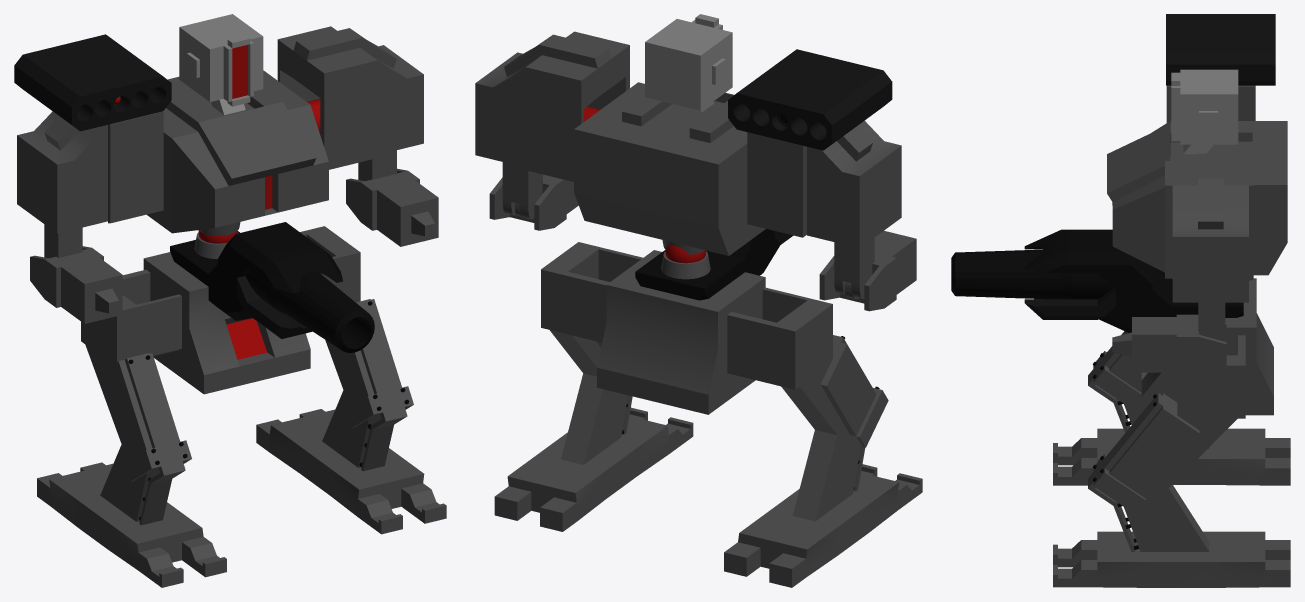
The model's file is RobotBossGun.fbx.
The picture shows the model from 3 angles, left to right: view 1: azimuth 30°, elevation 25°; view 2: azimuth 150°, elevation 25°; view 3: azimuth 270°, elevation 25°; orthographic projection. The views are drawn at different scales.
Parts seen in each view (by area): view 1: Box001, Box015, Box016, Box011, Box019, Box020, Line002, Box002, Box013, Cone010, Box018, Box017 (+1 smaller); view 2: Box001, Box015, Box019, Box011, Box016, Box020, Box002, Line002, Box018, Box013, Box017, Box012 (+1 smaller); view 3: Box001, Box015, Box011, Line002, Box020, Cone010, Box002, Box013, Box019, Box012, Box016.
Part boxes in pixels (bbox=[...]): Box001: bbox=[37, 226, 446, 587]; Box015: bbox=[147, 70, 328, 233]; Box016: bbox=[17, 111, 163, 233]; Box011: bbox=[277, 26, 423, 169]; Box019: bbox=[143, 252, 310, 394]; Box020: bbox=[14, 34, 171, 131]; Line002: bbox=[170, 222, 342, 338]; Box002: bbox=[179, 14, 263, 115]; Box013: bbox=[346, 168, 438, 246]; Cone010: bbox=[245, 271, 374, 352]; Box018: bbox=[30, 246, 122, 323]; Box017: bbox=[44, 224, 82, 258]; Box001: bbox=[494, 242, 922, 587]; Box015: bbox=[574, 82, 765, 255]; Box019: bbox=[597, 250, 765, 414]; Box011: bbox=[475, 31, 629, 181]; Box016: bbox=[747, 120, 901, 248]; Box020: bbox=[728, 49, 892, 150]; Box002: bbox=[645, 14, 732, 112]; Line002: bbox=[635, 229, 793, 300]; Box018: bbox=[819, 231, 916, 311]; Box013: bbox=[489, 174, 578, 230]; Box017: bbox=[834, 238, 874, 298]; Box012: bbox=[502, 162, 542, 219]; Box001: bbox=[1053, 331, 1290, 587]; Box015: bbox=[1107, 121, 1287, 275]; Box011: bbox=[1165, 153, 1253, 302]; Line002: bbox=[1024, 229, 1243, 332]; Box020: bbox=[1166, 14, 1275, 85]; Cone010: bbox=[951, 249, 1113, 299]; Box002: bbox=[1171, 69, 1238, 154]; Box013: bbox=[1112, 314, 1226, 374]; Box019: bbox=[1141, 278, 1273, 415]; Box012: bbox=[1198, 302, 1225, 341]; Box016: bbox=[1166, 85, 1255, 122].
Bounding box in the file's own units: 221 × 269 × 186.
